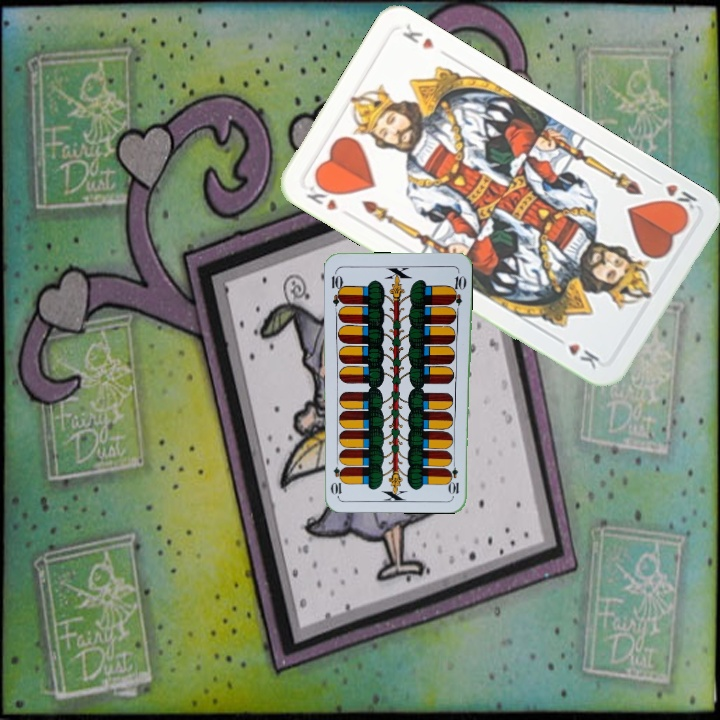E10: (328, 267, 347, 308), (447, 456, 461, 497)
HK: (647, 172, 701, 219), (302, 177, 342, 214)
